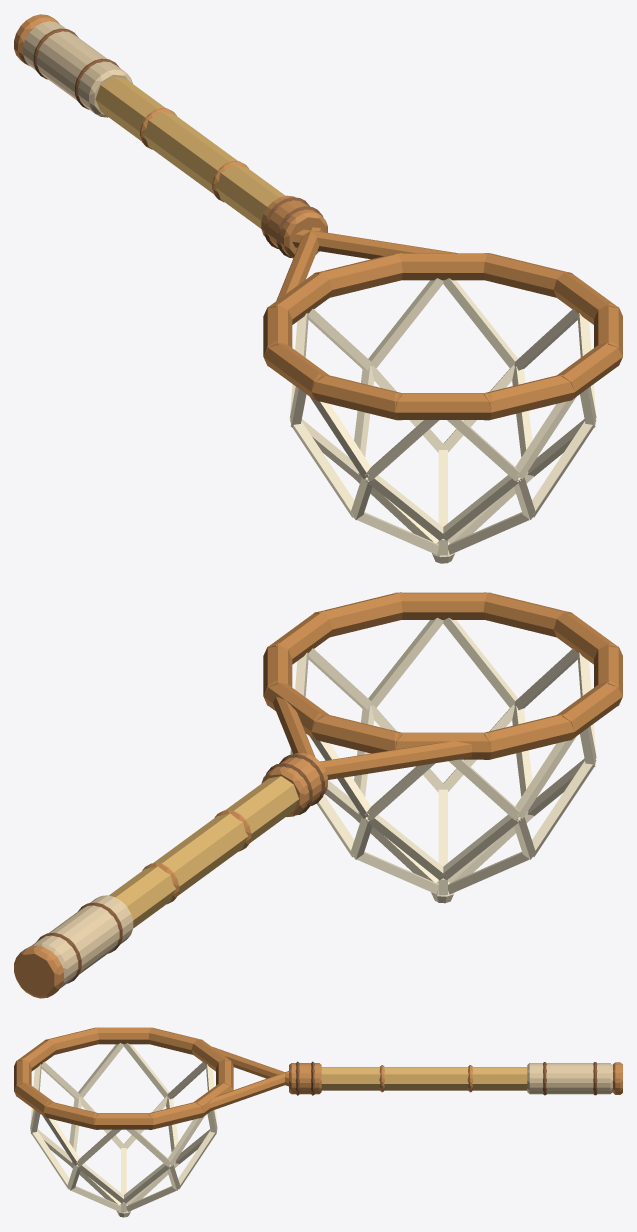
The model's file is CatCafe_Item_Net_L1.fbx.
3 views of the same model, one above another, from view 1: azimuth 30°, elevation 25°; view 2: azimuth 150°, elevation 25°; view 3: azimuth 270°, elevation 25° (orthographic). The views are drawn at different scales.
Parts seen in each view (by area): view 1: CatCafe_Item_Net_L1_Bag, CatCafe_Item_Net_L1_Hoop, CatCafe_Item_Net_L1_Handle; view 2: CatCafe_Item_Net_L1_Bag, CatCafe_Item_Net_L1_Handle, CatCafe_Item_Net_L1_Hoop; view 3: CatCafe_Item_Net_L1_Handle, CatCafe_Item_Net_L1_Bag, CatCafe_Item_Net_L1_Hoop.
Boxes of the visible parts, x1,y1,x2,y2 form: CatCafe_Item_Net_L1_Bag: (289,278,596,563); CatCafe_Item_Net_L1_Hoop: (263,253,622,420); CatCafe_Item_Net_L1_Handle: (14,14,457,300); CatCafe_Item_Net_L1_Bag: (290,617,596,903); CatCafe_Item_Net_L1_Handle: (14,696,472,998); CatCafe_Item_Net_L1_Hoop: (263,592,622,759); CatCafe_Item_Net_L1_Handle: (209,1046,622,1111); CatCafe_Item_Net_L1_Bag: (30,1043,217,1217); CatCafe_Item_Net_L1_Hoop: (14,1027,233,1129).
Bounding box in the file's own units: 1.74 × 1.35 × 4.83.
Materials: 1 (1 with a texture image).
